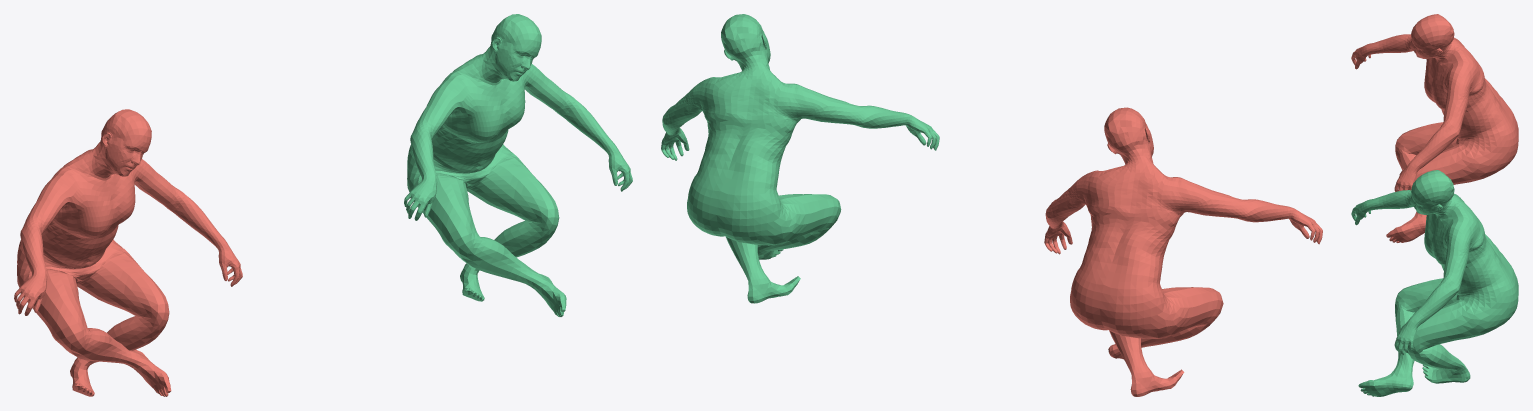
File: pose_055_before_after.glb
3 renders of one model, left to right at view 1: azimuth 30°, elevation 25°; view 2: azimuth 150°, elevation 25°; view 3: azimuth 270°, elevation 25°, orthographic. The views are drawn at different scales.
Visible parts, largest first — view 1: poseshield_green, input_red; view 2: input_red, poseshield_green; view 3: poseshield_green, input_red.
Boxes of the visible parts, box(x1,y1,x2,y2) form: poseshield_green: box(404, 14, 632, 316); input_red: box(14, 109, 242, 396); input_red: box(1044, 107, 1322, 396); poseshield_green: box(661, 14, 939, 303); poseshield_green: box(1351, 170, 1518, 396); input_red: box(1351, 14, 1518, 242).
Size of what is drawn, in the model's own units: 2.82 by 1.16 by 0.7799.
